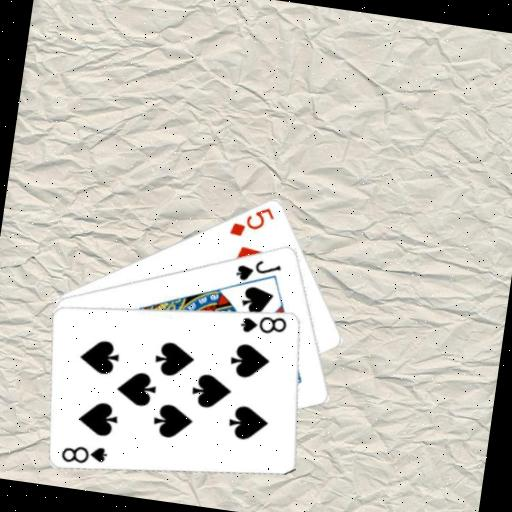5D: (226, 199, 278, 243)
8S: (237, 308, 290, 339), (58, 439, 111, 469)
JS: (232, 254, 284, 288)
